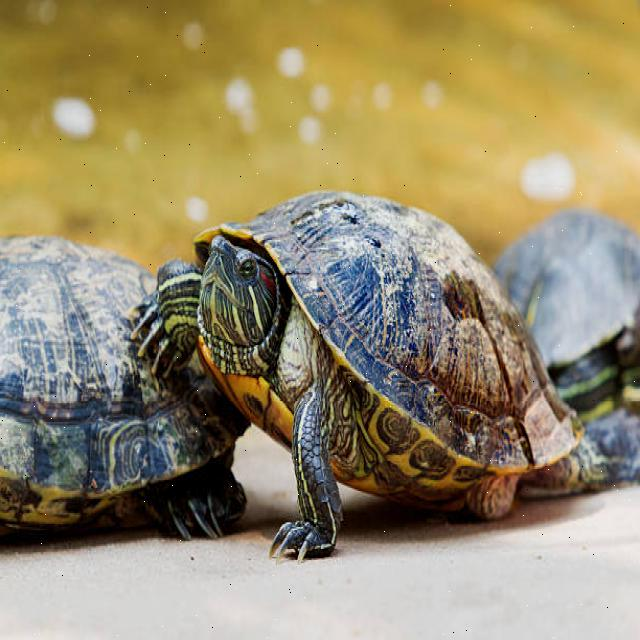tortoise: (149, 190, 585, 562), (0, 229, 232, 556)
